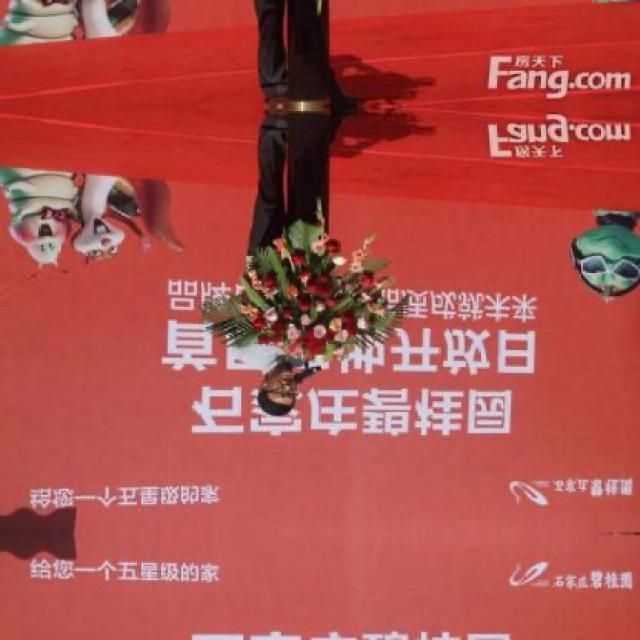sin casco: (205, 349, 328, 437)
